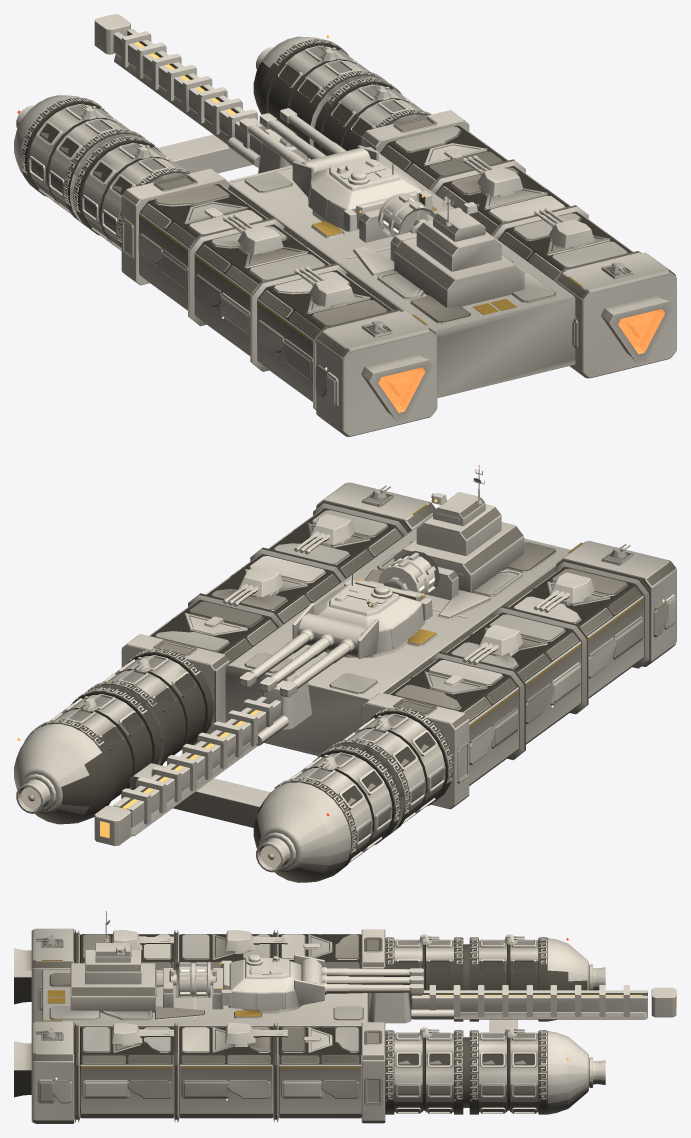
File: plektor_capital.glb
3 renders of one model, top to bottom at view 1: azimuth 30°, elevation 25°; view 2: azimuth 150°, elevation 25°; view 3: azimuth 270°, elevation 25°, orthographic. The views are drawn at different scales.
Visible parts, largest first — view 1: hull, turret_1, turret_0, engines, reactor, aux_0, aux_1, aux_2, aux_3; view 2: hull, turret_0, turret_1, engines, reactor, aux_0, aux_2, aux_1, aux_3; view 3: hull, turret_0, turret_1, engines, reactor, aux_3, aux_2, aux_1, aux_0.
Part boxes in pixels (<box>): hull: <box>14,35,676,436</box>; turret_1: <box>239,108,432,231</box>; turret_0: <box>94,14,309,173</box>; engines: <box>16,47,673,422</box>; reactor: <box>378,193,435,238</box>; aux_0: <box>294,266,354,308</box>; aux_1: <box>534,208,594,249</box>; aux_2: <box>222,214,283,254</box>; aux_3: <box>462,155,523,196</box>; hull: <box>14,465,676,882</box>; turret_0: <box>94,672,311,845</box>; turret_1: <box>239,573,432,697</box>; engines: <box>16,774,295,872</box>; reactor: <box>378,551,439,595</box>; aux_0: <box>534,572,594,612</box>; aux_2: <box>462,624,523,665</box>; aux_1: <box>294,514,354,554</box>; aux_3: <box>222,566,283,606</box>; hull: <box>31,911,588,1123</box>; turret_0: <box>369,985,676,1023</box>; turret_1: <box>219,954,423,1013</box>; engines: <box>14,948,605,1097</box>; reactor: <box>173,962,212,997</box>; aux_3: <box>225,1023,287,1046</box>; aux_2: <box>225,930,287,953</box>; aux_1: <box>112,1023,173,1045</box>; aux_0: <box>112,930,173,950</box>.
Bounding box in the file's own units: 86.28 × 44.47 × 182.
Materials: 12 (4 with a texture image).
